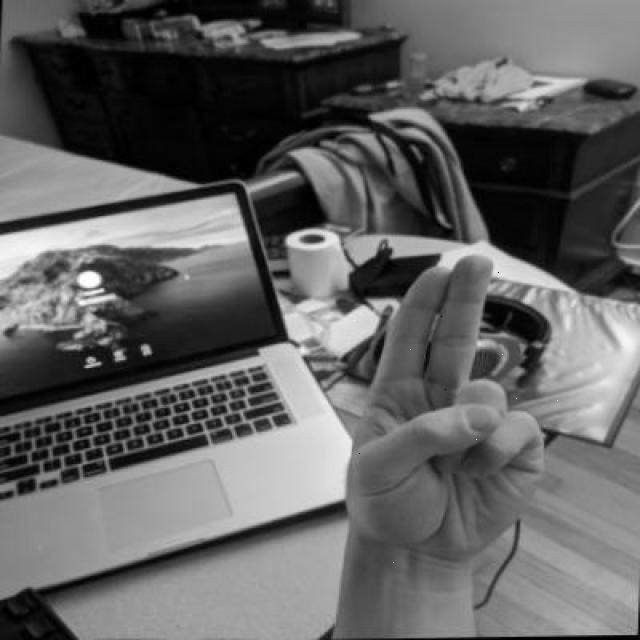U: (333, 246, 566, 570)
